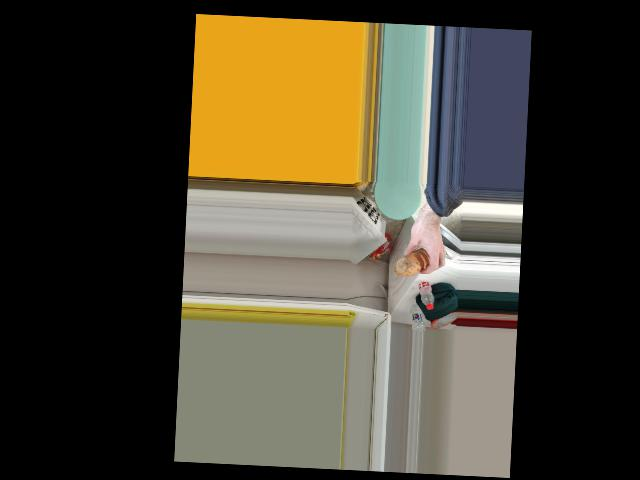sweet_potato: (399, 247, 431, 278)
